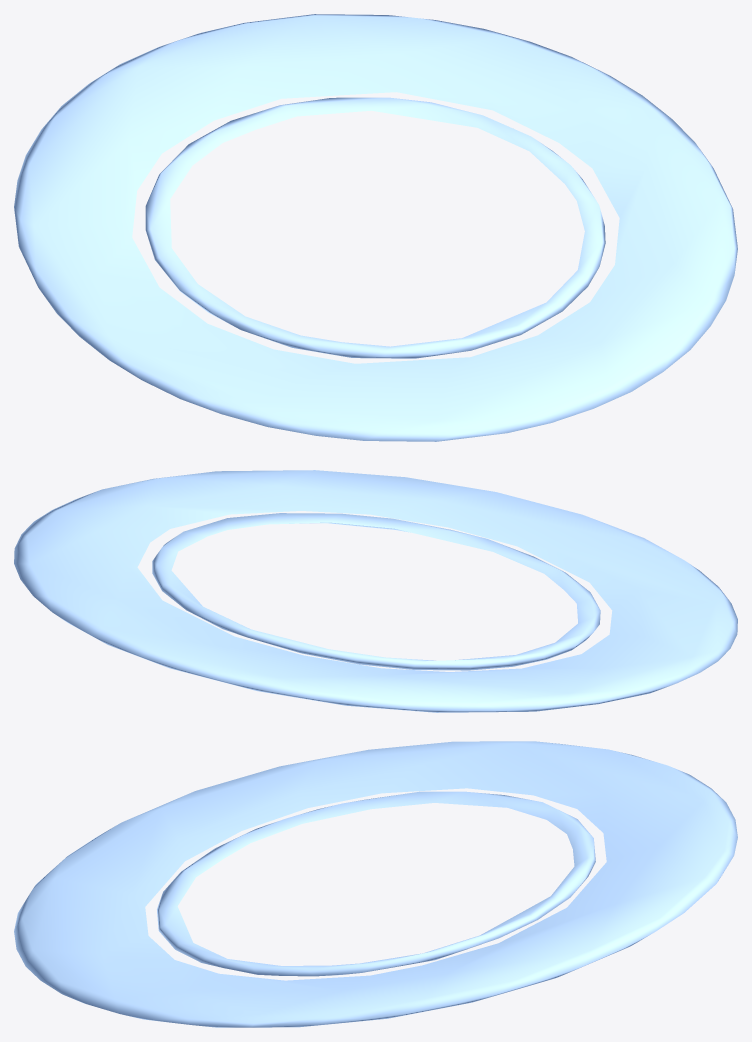
The model's file is Planet_Acc_Ring28_Low.fbx.
3 renders of one model, top to bottom at view 1: azimuth 30°, elevation 25°; view 2: azimuth 150°, elevation 25°; view 3: azimuth 270°, elevation 25°, orthographic. The views are drawn at different scales.
Visible parts, largest first — view 1: Ring2Low; view 2: Ring2Low; view 3: Ring2Low.
Part boxes in pixels (bbox=[...]): Ring2Low: bbox=[14, 14, 737, 441]; Ring2Low: bbox=[14, 470, 737, 712]; Ring2Low: bbox=[14, 741, 737, 1027].
Bounding box in the file's own units: 4.58 × 0.8492 × 4.75.
